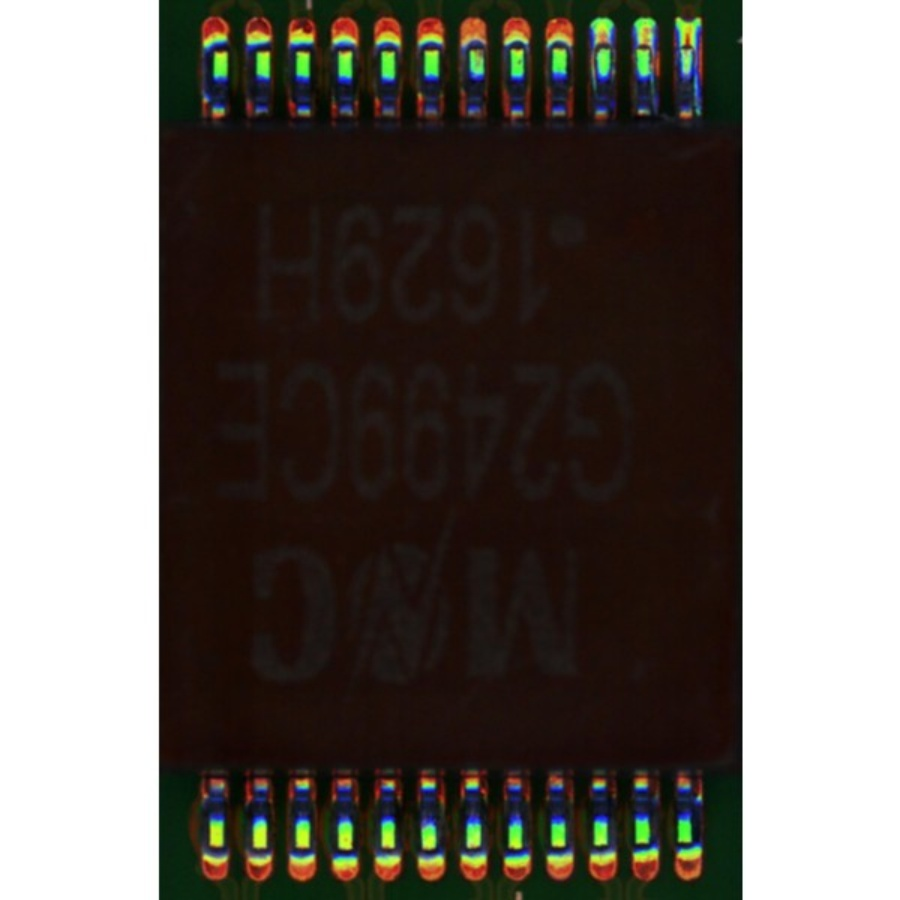Bad_podu: (639, 30, 654, 55), (597, 29, 611, 53), (681, 31, 695, 53)
Bad_qiaojiao: (693, 51, 700, 119), (650, 50, 658, 108), (589, 48, 596, 97)
